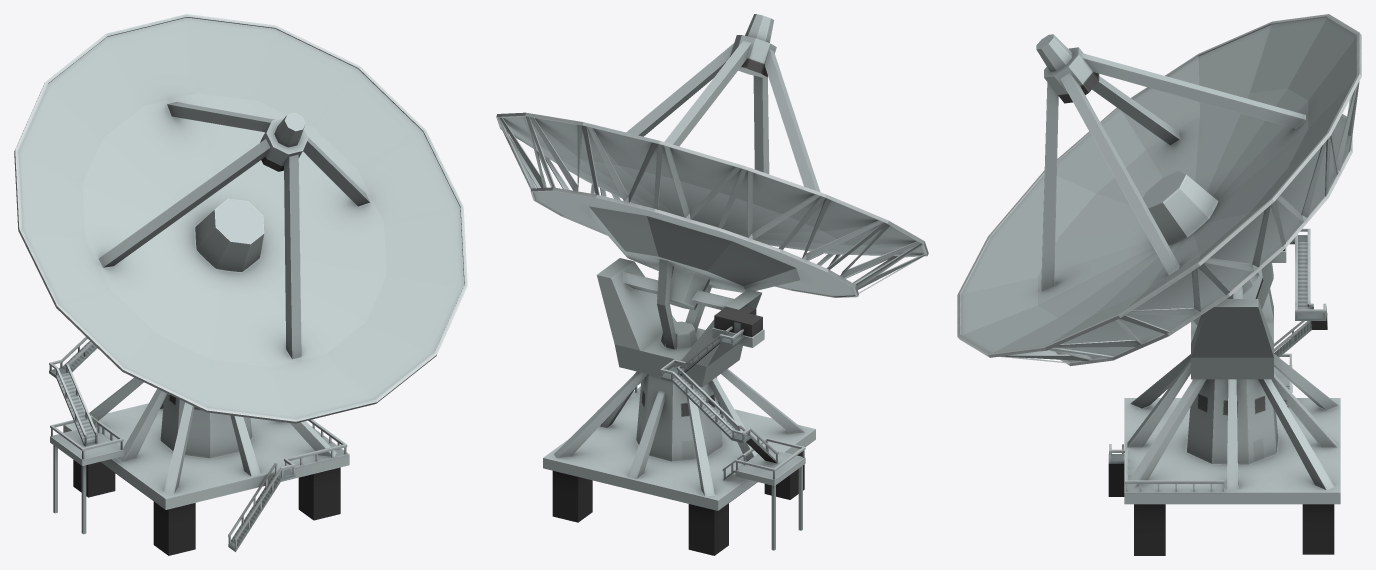
File: antenna.glb
The picture shows the model from 3 angles, left to right: view 1: azimuth 30°, elevation 25°; view 2: azimuth 150°, elevation 25°; view 3: azimuth 270°, elevation 25°; orthographic projection. The views are drawn at different scales.
Parts seen in each view (by area): view 1: Object_4; view 2: Object_4; view 3: Object_4.
Boxes of the visible parts, x1,y1,x2,y2 form: Object_4: (14, 14, 467, 555); Object_4: (496, 14, 928, 555); Object_4: (957, 14, 1361, 555).
Bounding box in the file's own units: 16.37 × 17.35 × 13.36.
Materials: 1 (1 with a texture image).
